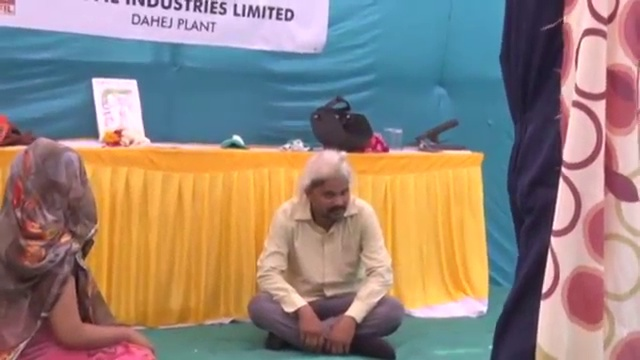helmet_off: (9, 142, 93, 235), (300, 153, 353, 225)
person: (1, 136, 157, 360), (247, 148, 405, 357), (488, 1, 568, 360)
